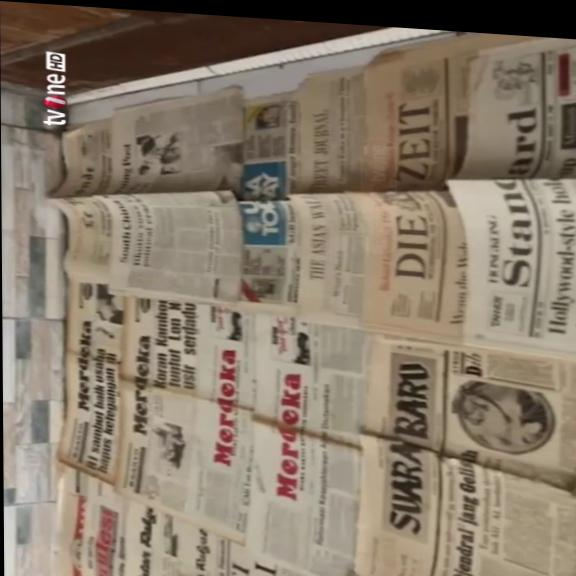Kertas: (354, 433, 576, 576), (50, 71, 250, 208), (104, 181, 251, 307)
